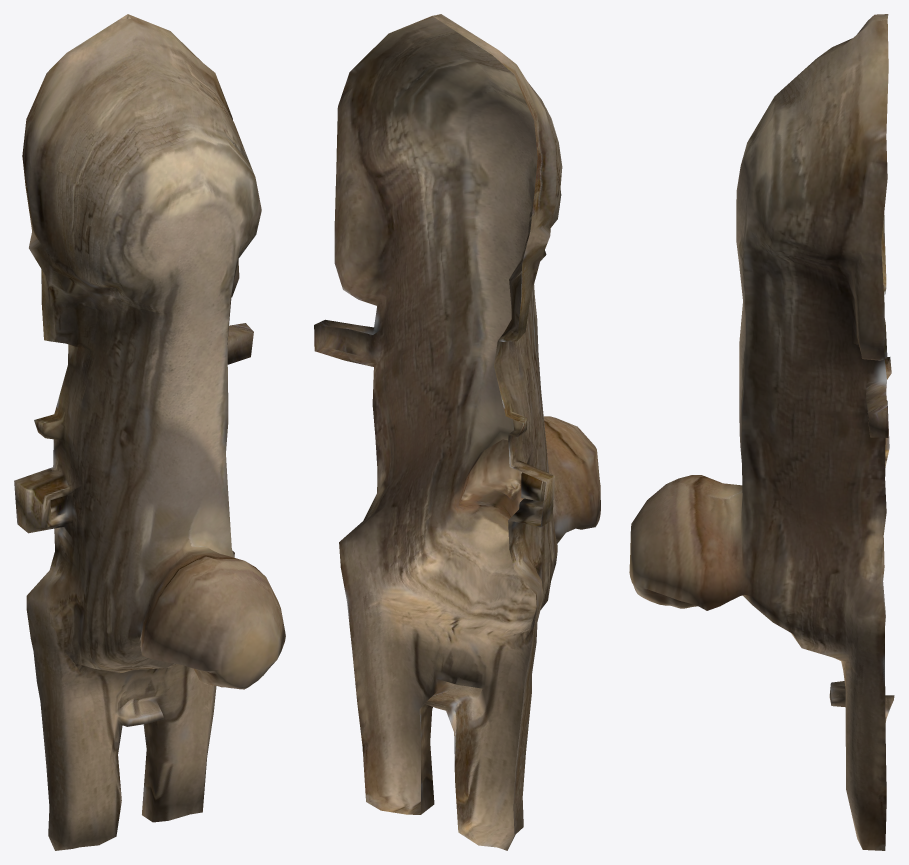
The model's file is esfinge.obj.
3 renders of one model, left to right at view 1: azimuth 30°, elevation 25°; view 2: azimuth 150°, elevation 25°; view 3: azimuth 270°, elevation 25°, orthographic.
Visible parts, largest first — view 1: Sphynx_uv; view 2: Sphynx_uv; view 3: Sphynx_uv.
Boxes of the visible parts, x1,y1,x2,y2 form: Sphynx_uv: (14,14,285,850); Sphynx_uv: (314,14,600,850); Sphynx_uv: (629,14,894,850).
Bounding box in the file's own units: 49.01 × 166 × 48.82.
